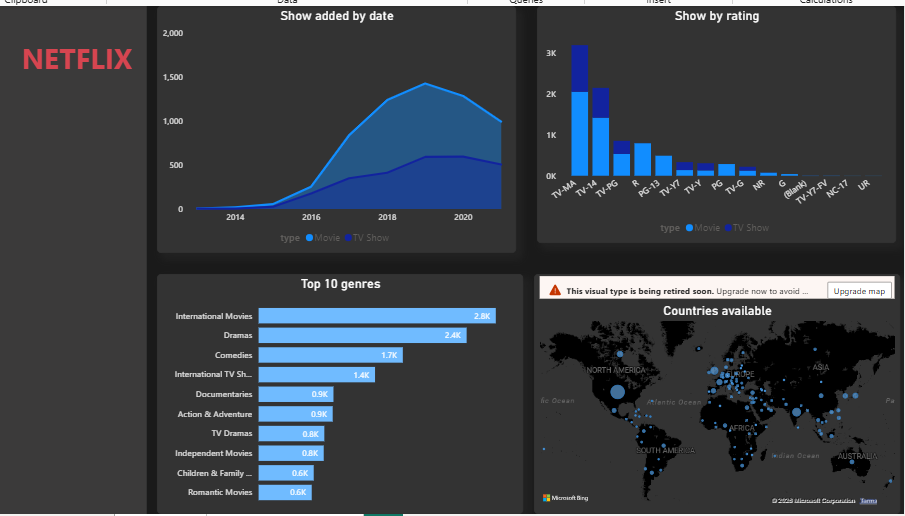

This screenshot's page, from the dashboard's own definition file:
{"tool":"powerbi","page":{"name":"Overview","canvas":[1280,720],"ordinal":0},"visuals":[{"type":"columnChart","title":"Show by rating","fields":{"Category":["netflix_data netflix_titles.rating"],"Y":["CountNonNull(netflix_data netflix_titles.show_id)"],"Series":["netflix_data netflix_titles.type"]},"box":[761.1,0,508.8,335.9],"z":0},{"type":"areaChart","title":"Show added by date","fields":{"Y":["CountNonNull(netflix_data netflix_titles.show_id)"],"Category":["netflix_data netflix_titles.date_added.Variation.Date Hierarchy.Year"],"Series":["netflix_data netflix_titles.type"]},"box":[222.5,0,508.8,350.1],"z":1000},{"type":"clusteredBarChart","title":"Top 10 genres","fields":{"Category":["netflix_data netflix_listed_in.category"],"Y":["CountNonNull(netflix_data netflix_listed_in.show_id)"]},"box":[222.5,379.8,518.7,340.2],"z":2000},{"type":"map","title":"Countries available","fields":{"Category":["netflix_data countries_released.country"],"Size":["CountNonNull(netflix_data countries_released.show_id)"]},"box":[756.9,379.8,518.7,340.2],"z":3000},{"type":"actionButton","box":[12.3,12.3,188.8,115],"z":4000},{"type":"shape","box":[0,0,208.3,720.6],"z":5000},{"type":"actionButton","box":[9.7,12.3,198.4,121.2],"z":6000}]}

Visuals, with their boxes on the page's 1280x720 design canvas (x1, y1, x2, y2). These are canvas units, not pixel positions in the 905x516 screenshot, which may show the page scaled, cropped or inside an application window:
"Show by rating" columnChart: 761/0/1270/336
"Show added by date" areaChart: 222/0/731/350
"Top 10 genres" clusteredBarChart: 222/380/741/720
"Countries available" map: 757/380/1276/720
actionButton: 12/12/201/127
shape: 0/0/208/721
actionButton: 10/12/208/134
